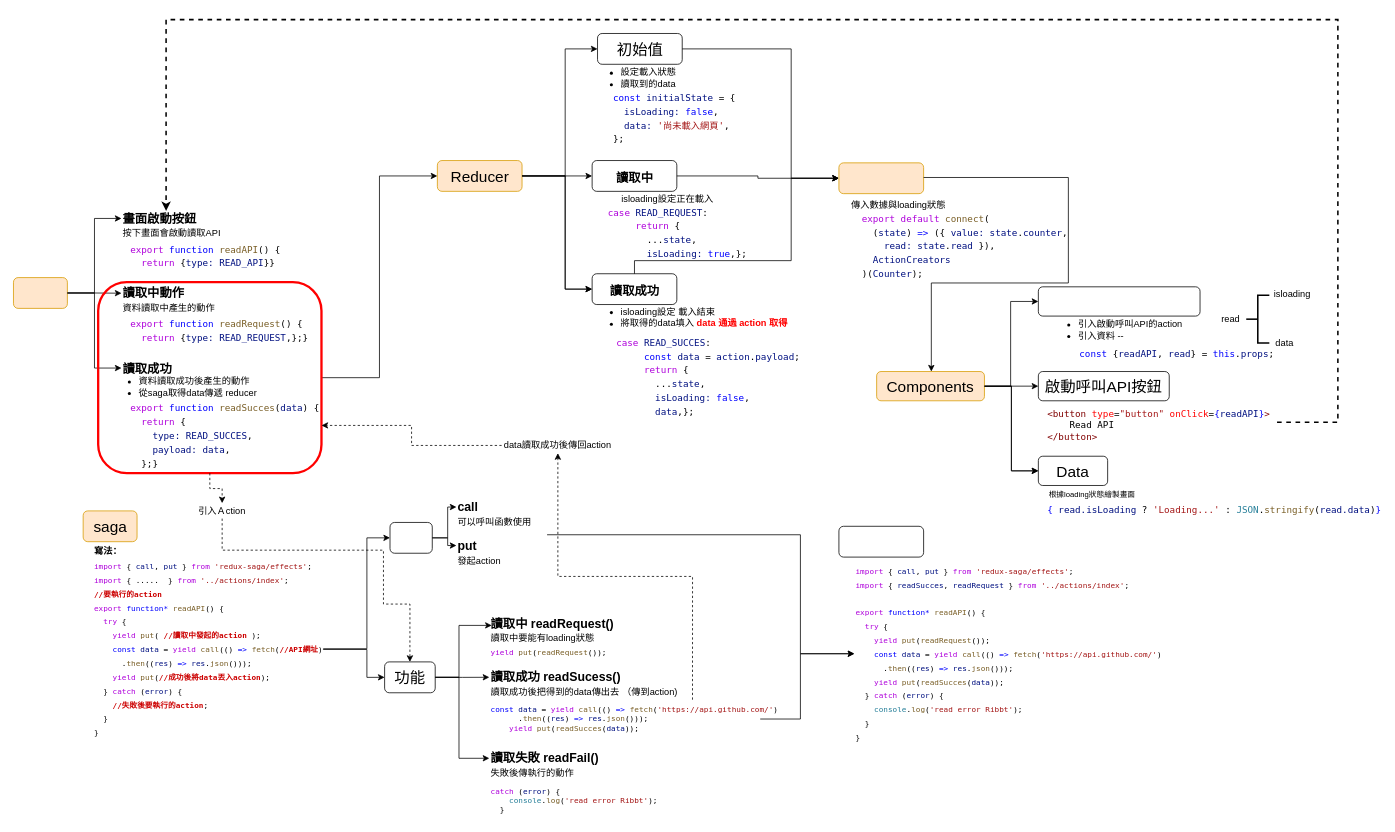
Some shapes in this 1395 by 832 pixel diagram are drawn without their labels. The centre of each missing label's shape, as x and y in pixels:
Actions: the point at 40,292
Containers: the point at 881,178
完整Code: the point at 881,541
從Container 引入資料: the point at 1119,301
方法: the point at 410,537
